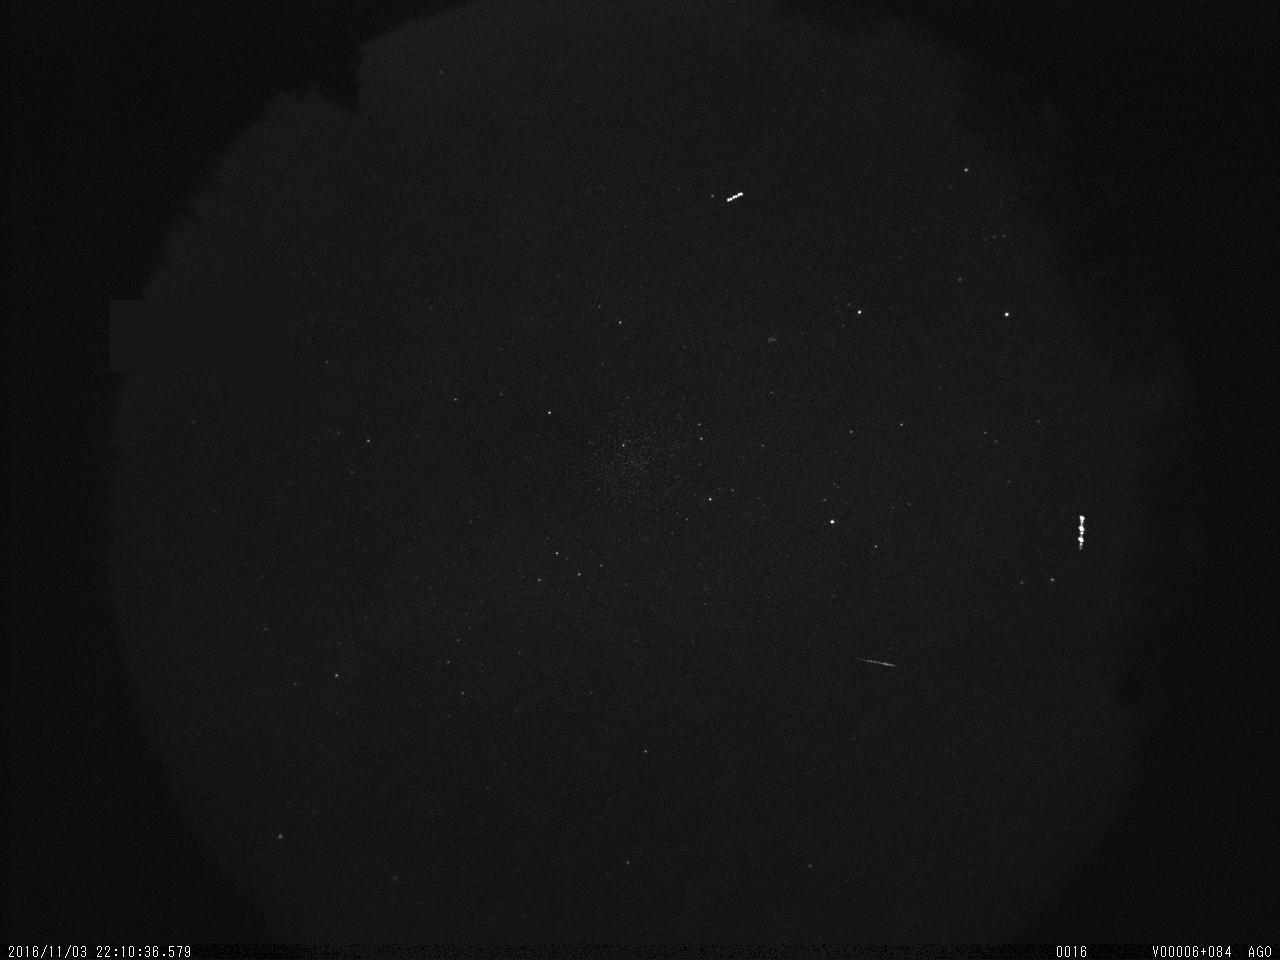meteor: (849, 650, 904, 674)
satelite: (1074, 505, 1091, 559), (724, 182, 748, 208)
